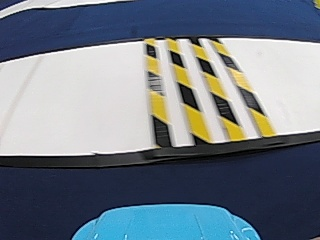bump: (128, 43, 273, 137)
